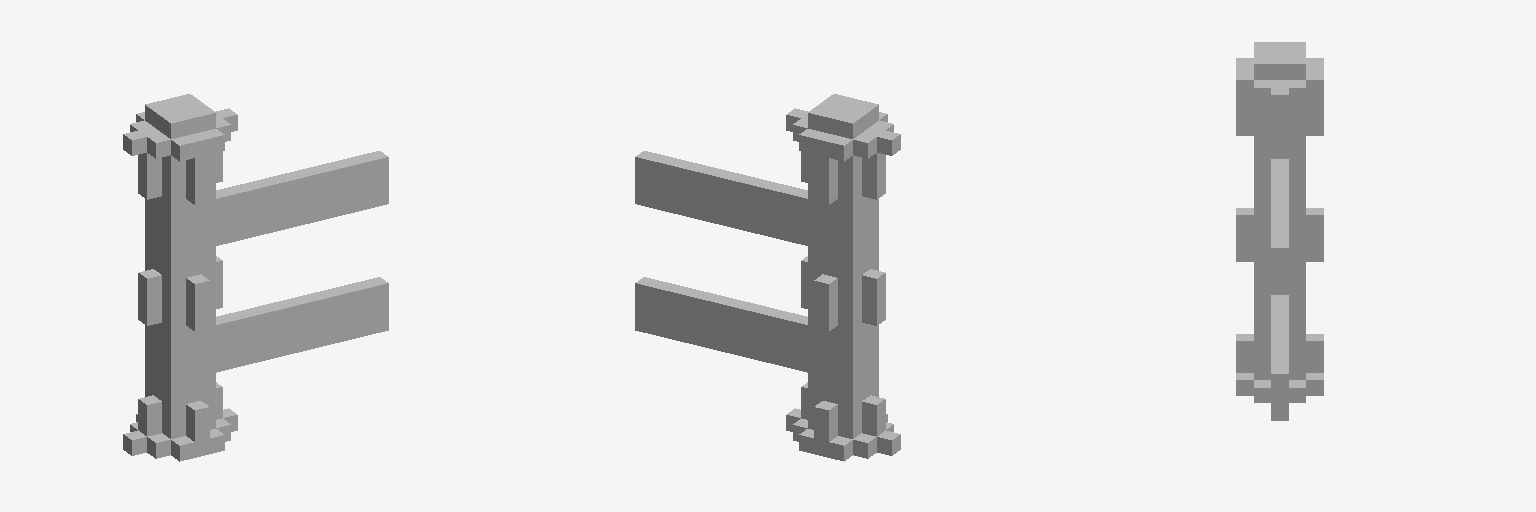
The model's file is Fence.obj.
The picture shows the model from 3 angles: view 1: azimuth 30°, elevation 25°; view 2: azimuth 150°, elevation 25°; view 3: azimuth 270°, elevation 25°; orthographic projection.
Visible parts, largest first — view 1: object 1; view 2: object 1; view 3: object 1.
Part boxes in pixels (bbox=[...]): object 1: bbox=[123, 94, 388, 461]; object 1: bbox=[635, 94, 900, 461]; object 1: bbox=[1236, 42, 1323, 420].
Size of the model in its own units: 1.7 by 2.1 by 0.5.